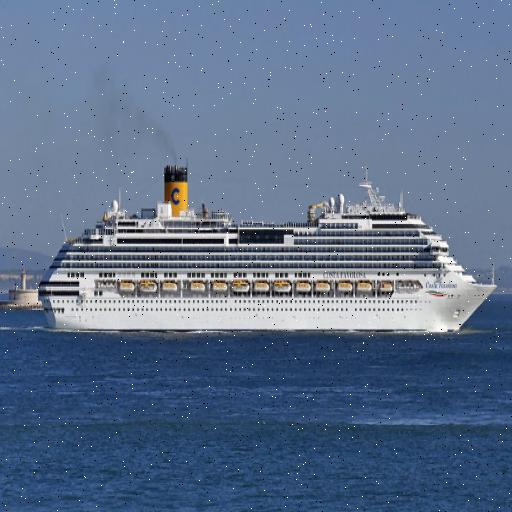cruises: (36, 152, 502, 340)
